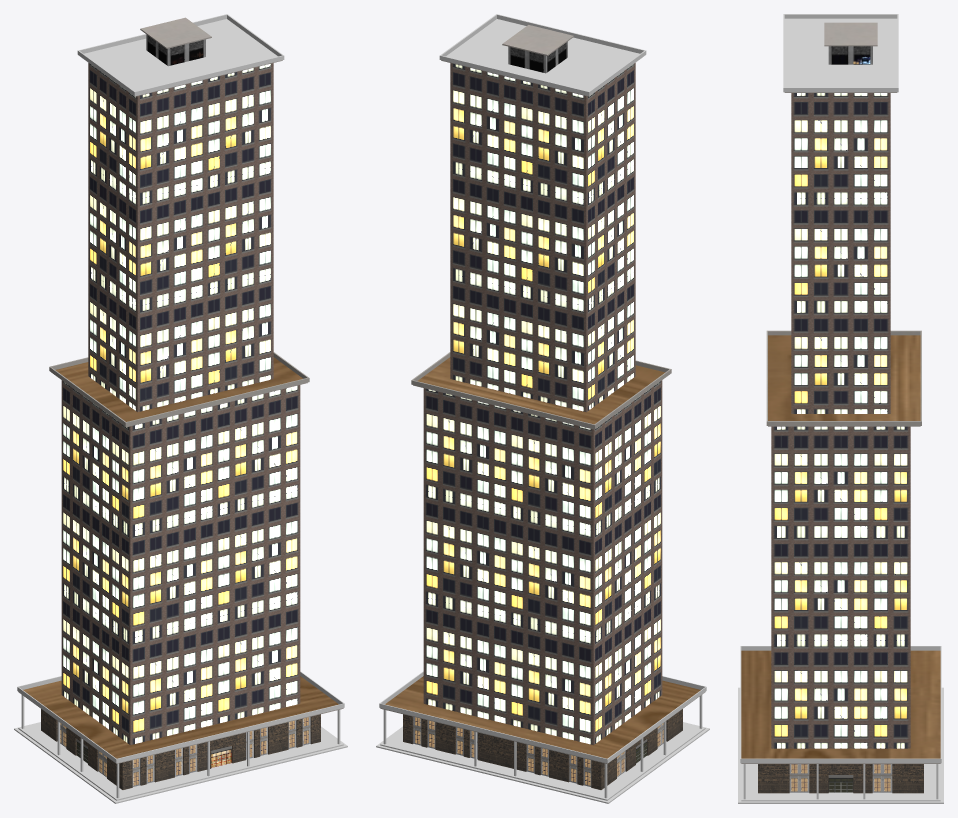
File: BuildingF.fbx
3 views of the same model, side by side, from view 1: azimuth 30°, elevation 25°; view 2: azimuth 150°, elevation 25°; view 3: azimuth 270°, elevation 25° (orthographic).
Parts seen in each view (by area): view 1: BuildingF; view 2: BuildingF; view 3: BuildingF.
Part boxes in pixels (left/top/right/bottom): BuildingF: left=14, top=14, right=347, bottom=803; BuildingF: left=376, top=14, right=709, bottom=803; BuildingF: left=738, top=14, right=943, bottom=803.
Size of the model in its own units: 4100 by 11833 by 3100.
